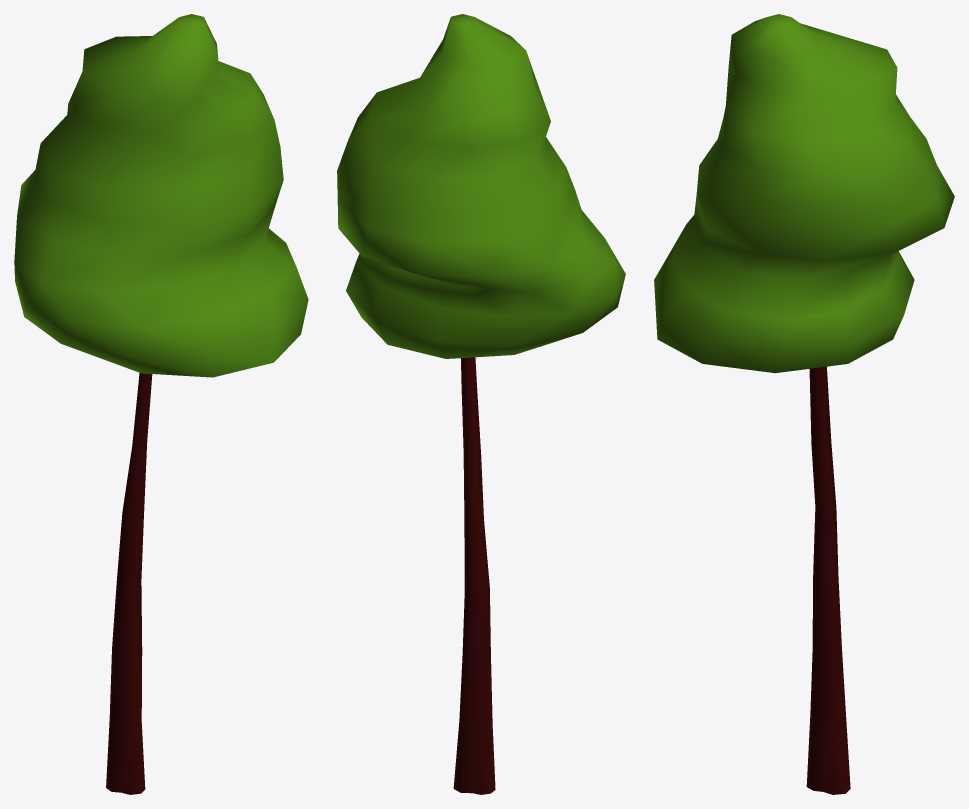
Rendered from Tree2.FBX.
The picture shows the model from 3 angles, left to right: view 1: azimuth 30°, elevation 25°; view 2: azimuth 150°, elevation 25°; view 3: azimuth 270°, elevation 25°; orthographic projection. The views are drawn at different scales.
Parts seen in each view (by area): view 1: Tree2; view 2: Tree2; view 3: Tree2.
Boxes of the visible parts, box(x1,y1,x2,y2) form: Tree2: box(14, 14, 308, 794); Tree2: box(337, 14, 625, 794); Tree2: box(654, 14, 954, 794).
Bounding box in the file's own units: 69.71 × 193 × 66.92.
